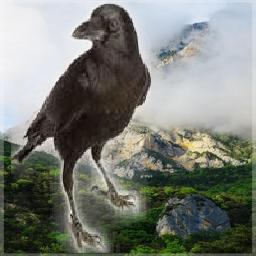Crow: (11, 1, 151, 253)
